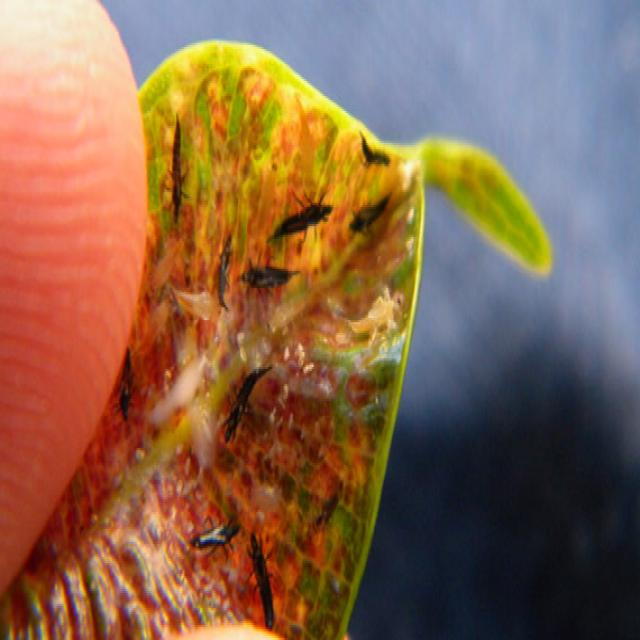Thrip-Adult-: (237, 519, 288, 629), (220, 351, 276, 449), (270, 176, 340, 248), (157, 101, 194, 230), (348, 179, 396, 244), (237, 252, 300, 296), (213, 219, 240, 320), (310, 472, 352, 536), (179, 513, 241, 554), (357, 114, 398, 172), (114, 337, 139, 424)
